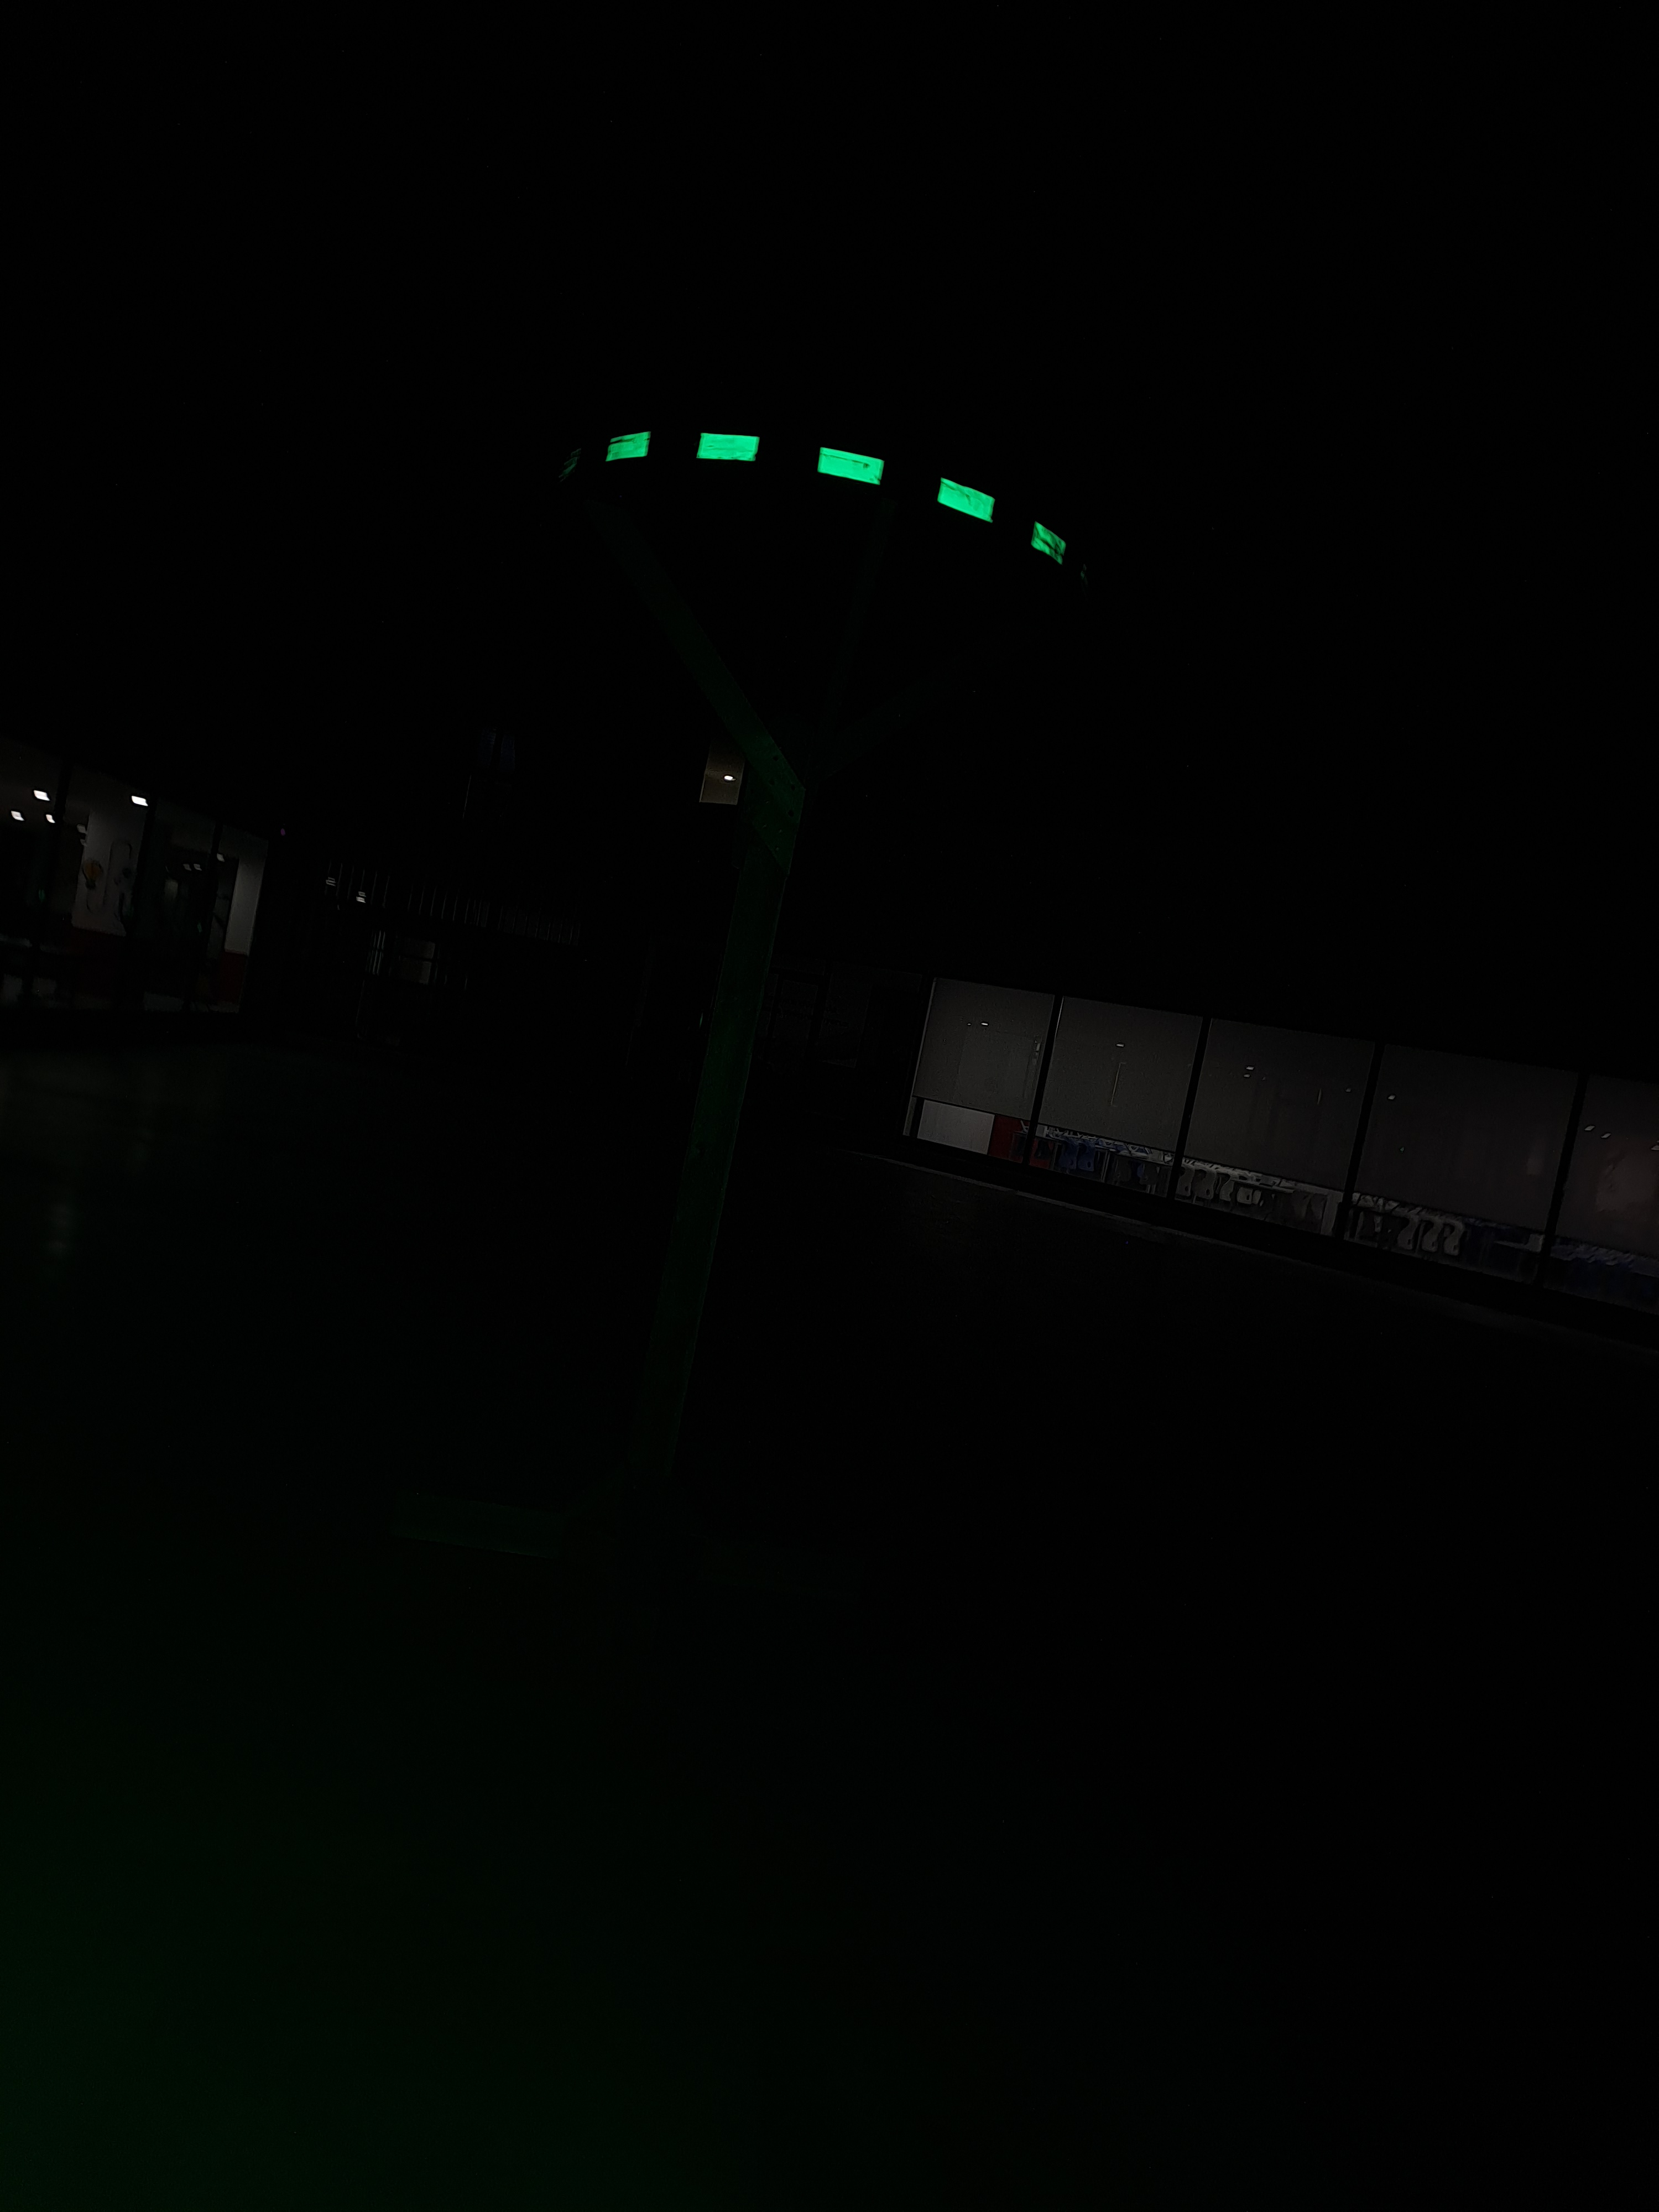hoop: (599, 418, 1068, 573)
